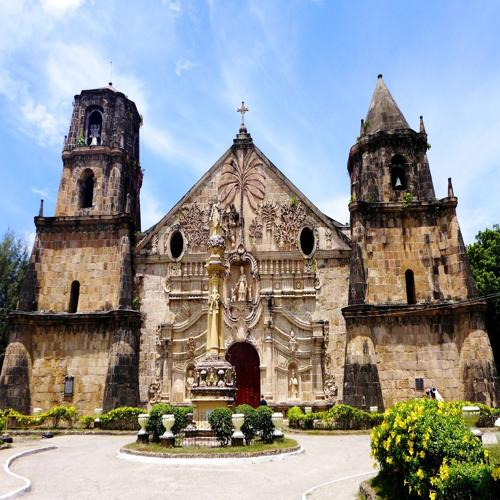Miagao Church: (15, 66, 499, 416)
